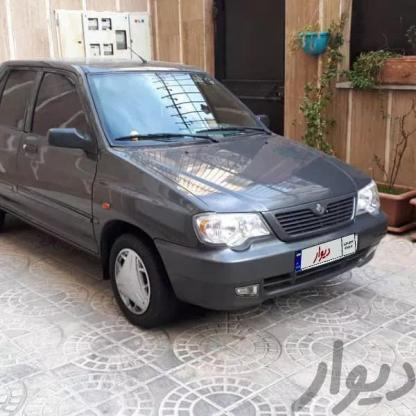Car: (0, 60, 388, 328)
